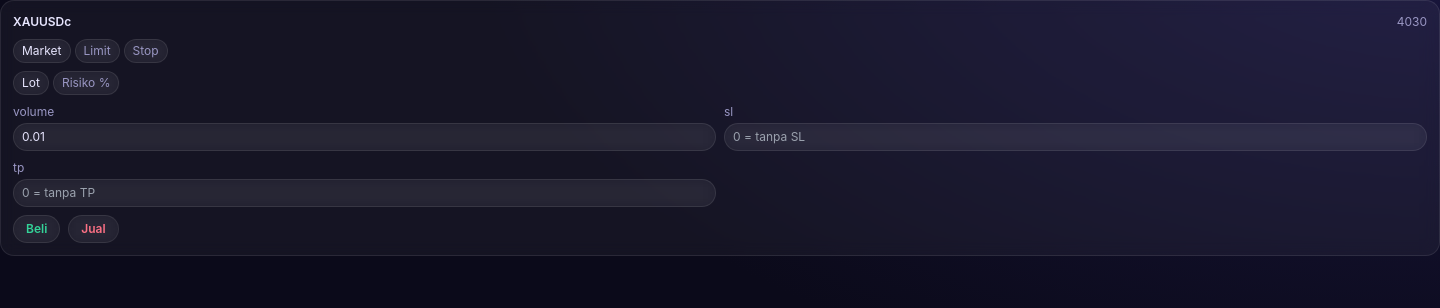
Test: PaperOrderPanel › needs a limit price before a pending order can be sent
Click the button "Limit" at (97, 51), box 74,39 -> 120,63
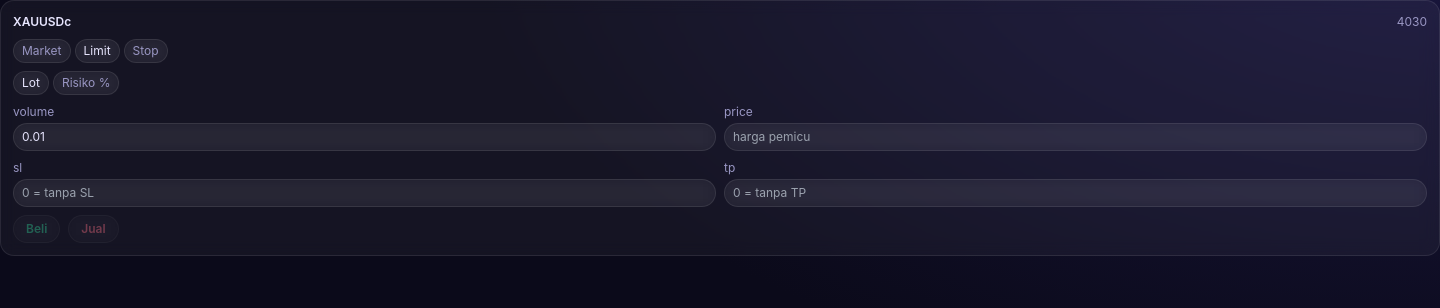
Now the button "Beli" is disabled, box 13,215 -> 60,243
